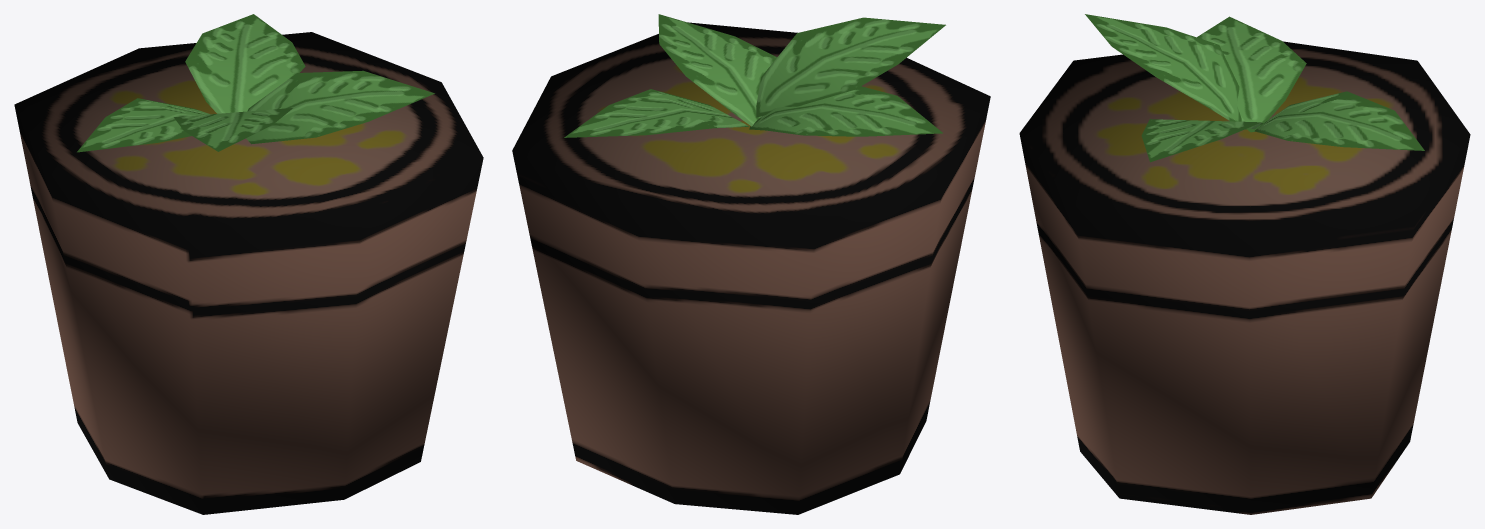
Rendered from plant.glb.
3 views of the same model, side by side, from view 1: azimuth 30°, elevation 25°; view 2: azimuth 150°, elevation 25°; view 3: azimuth 270°, elevation 25° (orthographic).
Visible parts, largest first — view 1: Plant; view 2: Plant; view 3: Plant.
Boxes of the visible parts, x1,y1,x2,y2 form: Plant: (14,14,483,514); Plant: (512,14,990,514); Plant: (1019,14,1470,514).
Size of the model in its own units: 0.5242 by 0.4842 by 0.5242.
Materials: 1 (1 with a texture image).
